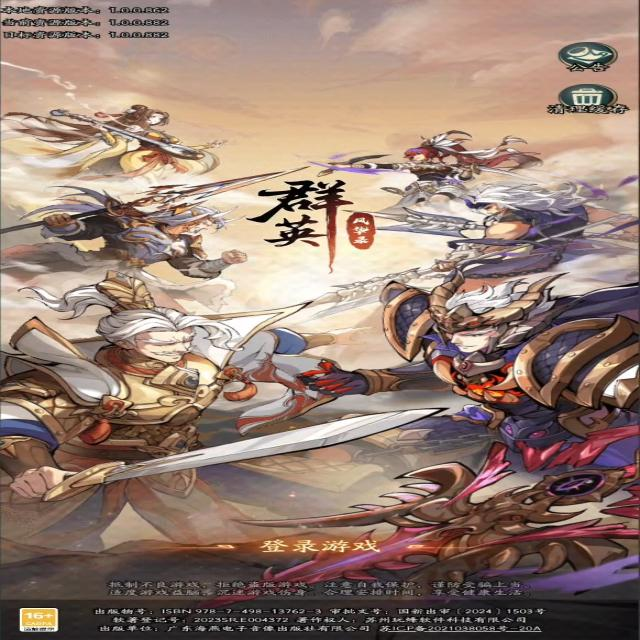operation-enter: (258, 538, 385, 553)
system-cleanUpCache: (552, 84, 632, 116)
system-notices: (558, 42, 617, 73)
